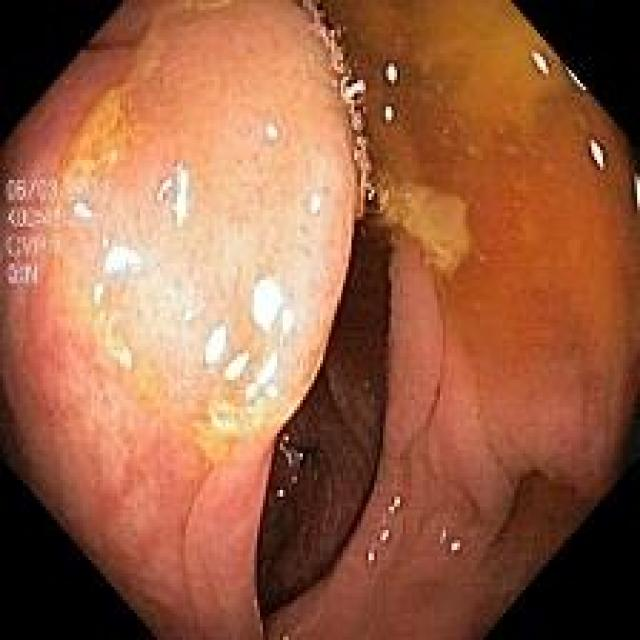Polyps: (59, 6, 356, 463)
